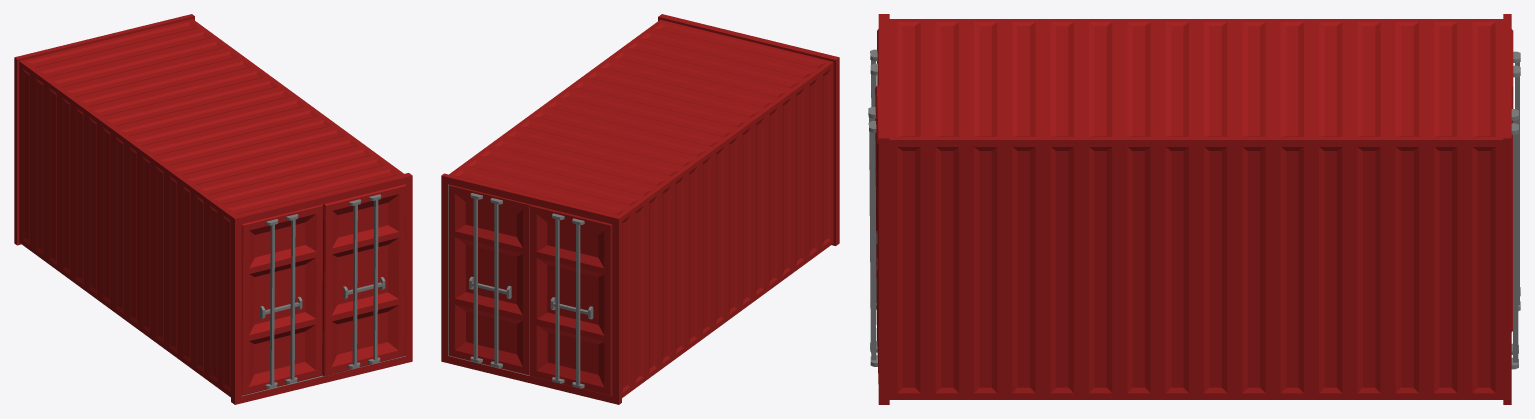
The model's file is model_cargo_container_red.fbx.
The picture shows the model from 3 angles, left to right: view 1: azimuth 30°, elevation 25°; view 2: azimuth 150°, elevation 25°; view 3: azimuth 270°, elevation 25°; orthographic projection. The views are drawn at different scales.
Parts seen in each view (by area): view 1: model_cargo_container_red, model_cargo_container_door4, model_cargo_container_door3; view 2: model_cargo_container_red, model_cargo_container_door2, model_cargo_container_door1; view 3: model_cargo_container_red, model_cargo_container_door4, model_cargo_container_door1, model_cargo_container_door2, model_cargo_container_door3.
Part boxes in pixels (box(x1,y1,x2,y2)): model_cargo_container_red: box(14, 14, 412, 404); model_cargo_container_door4: box(322, 184, 405, 376); model_cargo_container_door3: box(241, 204, 323, 395); model_cargo_container_red: box(441, 14, 839, 404); model_cargo_container_door2: box(530, 204, 612, 396); model_cargo_container_door1: box(448, 184, 529, 375); model_cargo_container_red: box(878, 14, 1511, 404); model_cargo_container_door4: box(868, 86, 878, 383); model_cargo_container_door1: box(1511, 109, 1518, 369); model_cargo_container_door2: box(1511, 29, 1520, 331); model_cargo_container_door3: box(870, 29, 878, 309).
Bounding box in the file's own units: 395 × 395 × 876.
1 material, 1 textured.
